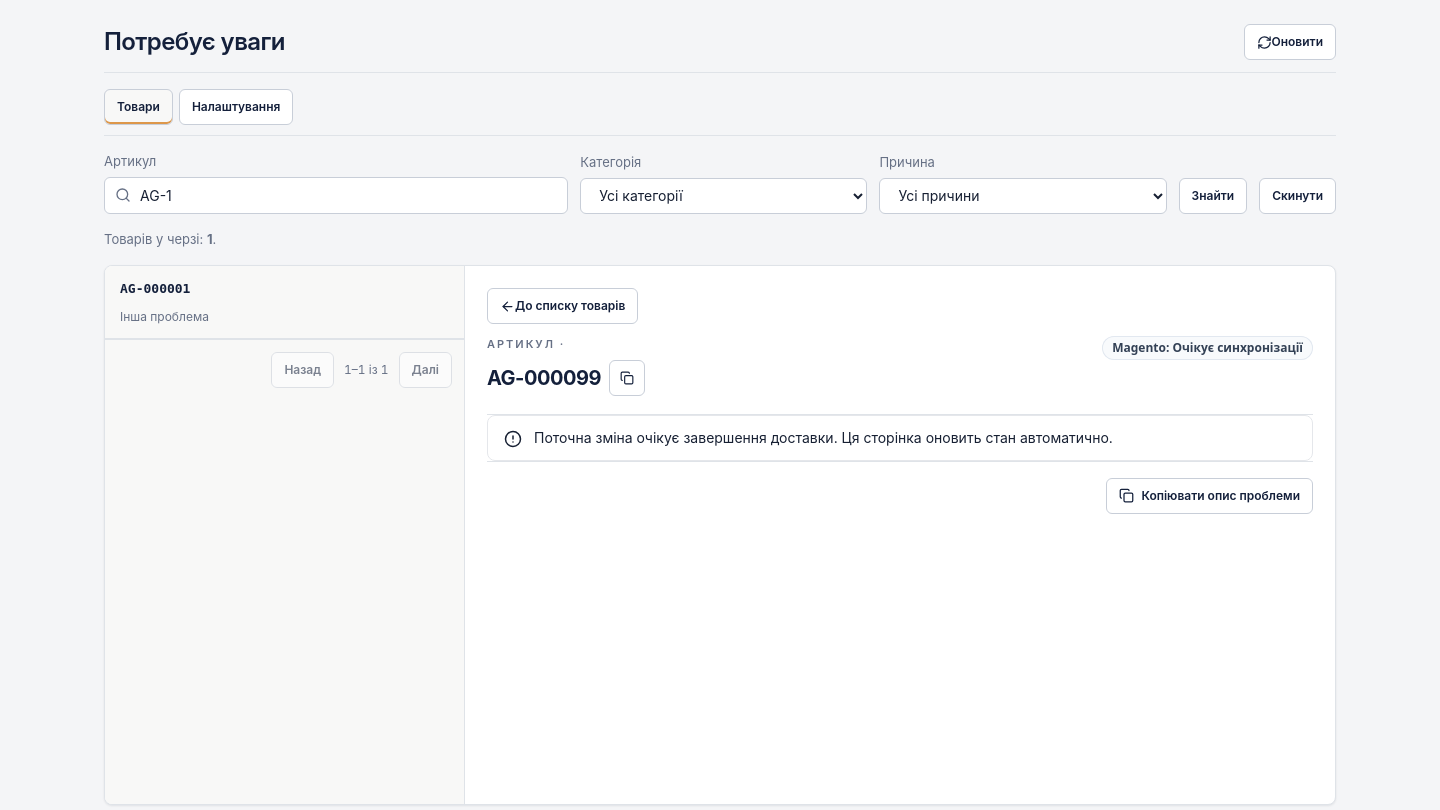
Test: selected off-page product stays exact and a failed detail never falls back to the first row
Expected: the heading "AG-000099" is shown, [487, 360, 645, 396]
Expected: the text "Поточна зміна очікує завершення доставки" is shown, [534, 428, 1113, 446]
Click the button "Оновити" at (1290, 42), box [1244, 24, 1336, 60]
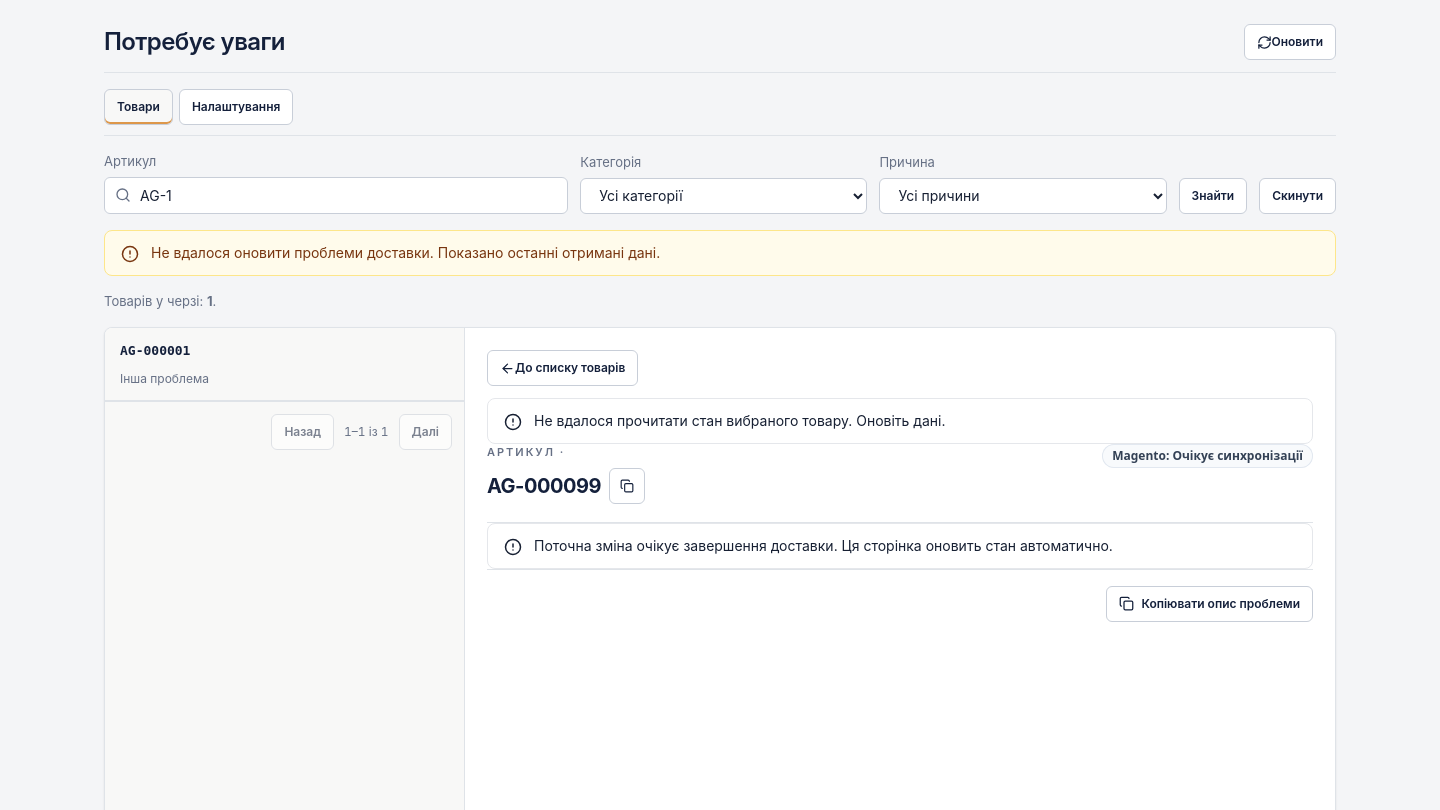
Expected: the text "Не вдалося прочитати стан вибраного товару. Оновіть дані." is shown, [534, 412, 946, 429]
